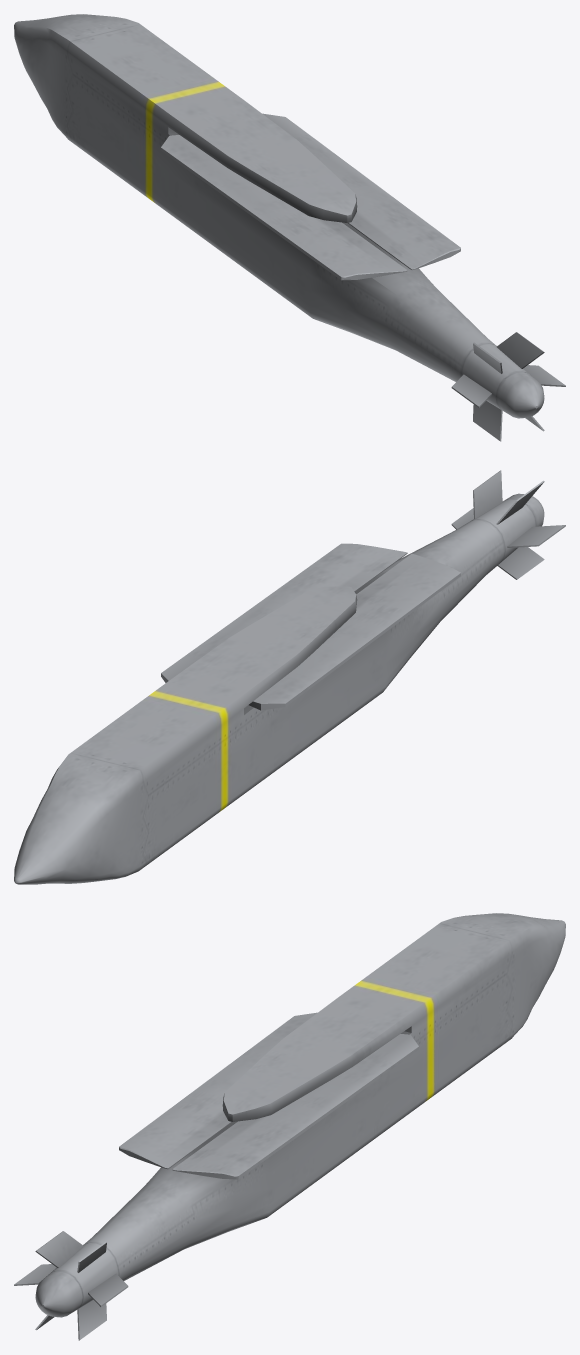
The model's file is w_jsow.glb.
3 renders of one model, top to bottom at view 1: azimuth 30°, elevation 25°; view 2: azimuth 150°, elevation 25°; view 3: azimuth 330°, elevation 25°, orthographic.
Parts seen in each view (by area): view 1: body|lambert1, wingB|lambert1, wingA|lambert1; view 2: body|lambert1, wingB|lambert1, wingA|lambert1; view 3: body|lambert1, wingA|lambert1, wingB|lambert1.
Boxes of the visible parts, <box> form: body|lambert1: <box>14,14,565,441</box>; wingB|lambert1: <box>161,135,407,280</box>; wingA|lambert1: <box>262,113,460,270</box>; body|lambert1: <box>14,470,565,884</box>; wingB|lambert1: <box>249,553,460,710</box>; wingA|lambert1: <box>161,543,407,682</box>; body|lambert1: <box>14,913,565,1340</box>; wingA|lambert1: <box>172,1034,418,1179</box>; wingB|lambert1: <box>119,1012,317,1169</box>.
Size of the model in its own units: 0.5667 by 0.4328 by 4.1.
3 materials, 3 textured.
